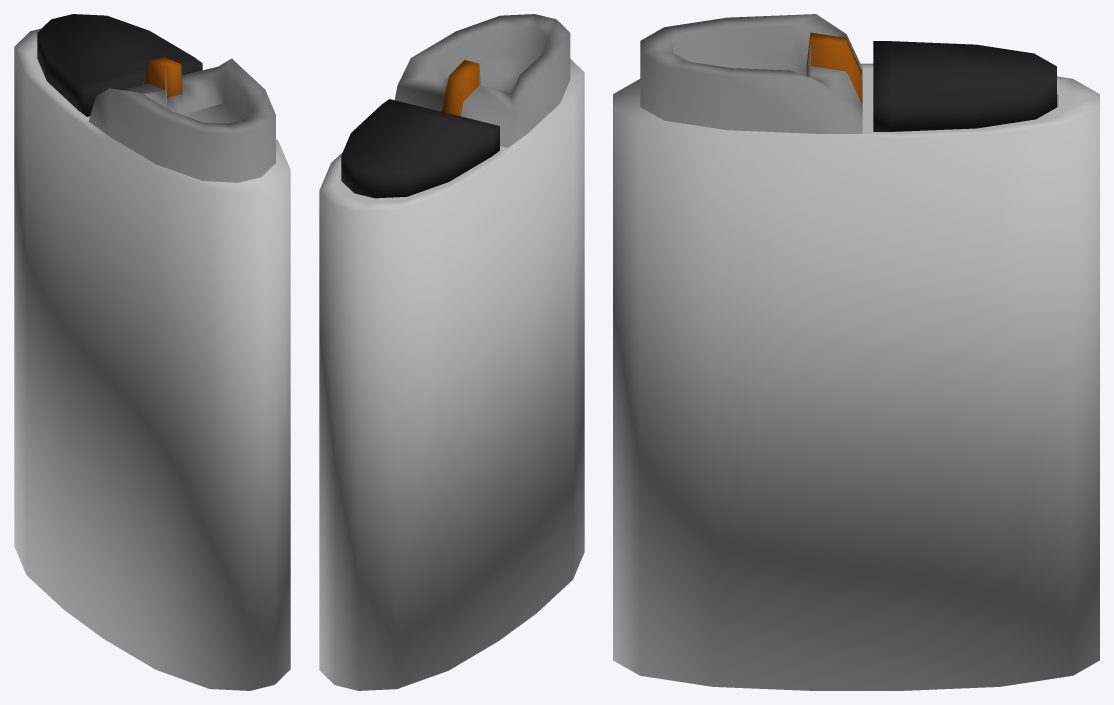
The model's file is Korek.fbx.
3 views of the same model, side by side, from view 1: azimuth 30°, elevation 25°; view 2: azimuth 150°, elevation 25°; view 3: azimuth 270°, elevation 25° (orthographic). The views are drawn at different scales.
Visible parts, largest first — view 1: Cube.009, Cube.015; view 2: Cube.009, Cube.015; view 3: Cube.009, Cube.015.
Part boxes in pixels (<box>): Cube.009: <box>14,28,290,690</box>; Cube.015: <box>37,14,202,116</box>; Cube.009: <box>319,14,584,690</box>; Cube.015: <box>341,99,499,198</box>; Cube.009: <box>613,14,1099,690</box>; Cube.015: <box>873,41,1056,131</box>.
Size of the model in its own units: 10.69 by 41.33 by 29.55.
